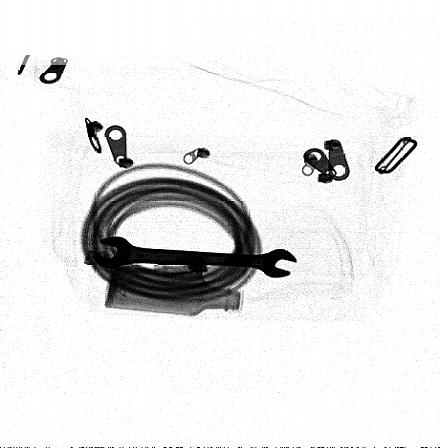Wrench: (91, 235, 298, 279)
